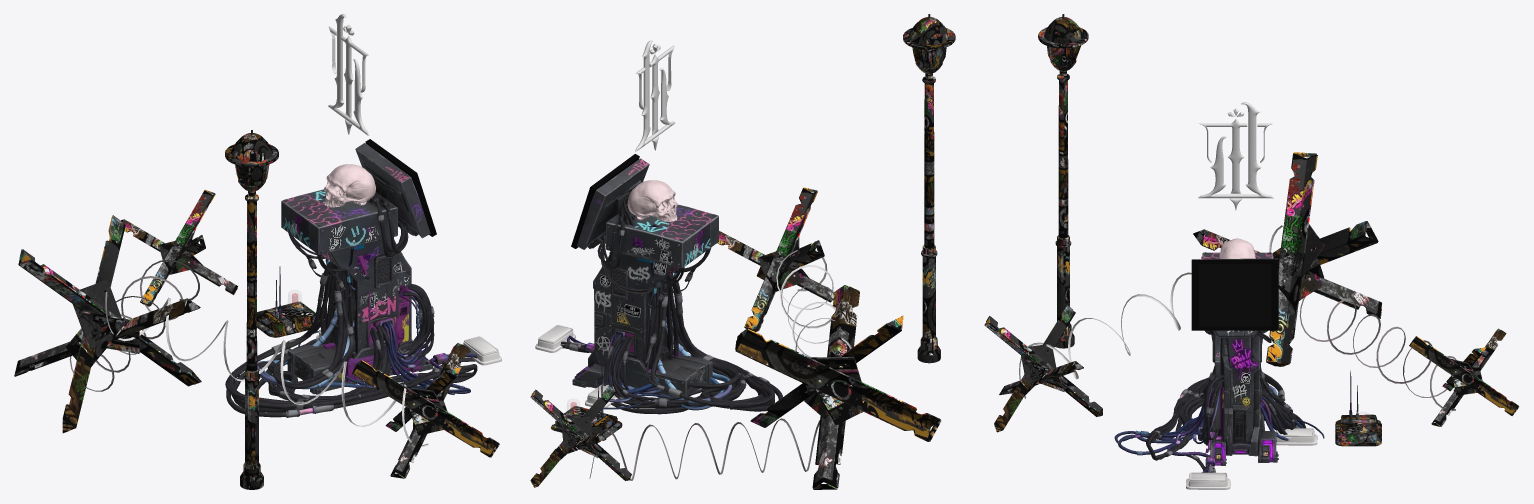
File: escena1-transformed.glb
3 views of the same model, side by side, from view 1: azimuth 30°, elevation 25°; view 2: azimuth 150°, elevation 25°; view 3: azimuth 270°, elevation 25° (orthographic). The views are drawn at different scales.
Visible parts, largest first — view 1: lamp, geometry_0, console, rsg_military_barbed_wire_01, Mesh1.0, 2, rsg_military_barbed_wire_01.001, screen; view 2: lamp, geometry_0, Mesh1.0, rsg_military_barbed_wire_01, console, 2, rsg_military_barbed_wire_01.001, screen; view 3: lamp, geometry_0, screen, Mesh1.0, console, rsg_military_barbed_wire_01, rsg_military_barbed_wire_01.001, 2.
Part boxes in pixels (left/top/right/bottom): lamp: left=14, top=130, right=499, bottom=489; geometry_0: left=225, top=143, right=477, bottom=417; console: left=257, top=243, right=477, bottom=395; rsg_military_barbed_wire_01: left=105, top=291, right=501, bottom=446; Mesh1.0: left=328, top=14, right=369, bottom=135; 2: left=324, top=164, right=375, bottom=207; rsg_military_barbed_wire_01.001: left=69, top=259, right=199, bottom=391; screen: left=365, top=139, right=436, bottom=236; lamp: left=530, top=14, right=955, bottom=489; geometry_0: left=560, top=158, right=782, bottom=414; Mesh1.0: left=635, top=40, right=674, bottom=151; rsg_military_barbed_wire_01: left=535, top=250, right=851, bottom=407; console: left=567, top=258, right=732, bottom=410; 2: left=627, top=180, right=677, bottom=222; rsg_military_barbed_wire_01.001: left=589, top=418, right=819, bottom=480; screen: left=571, top=154, right=639, bottom=248; lamp: left=984, top=14, right=1518, bottom=446; geometry_0: left=1146, top=252, right=1305, bottom=472; screen: left=1191, top=259, right=1278, bottom=330; Mesh1.0: left=1198, top=102, right=1273, bottom=210; console: left=1114, top=377, right=1324, bottom=472; rsg_military_barbed_wire_01: left=1019, top=225, right=1317, bottom=489; rsg_military_barbed_wire_01.001: left=1299, top=297, right=1456, bottom=410; 2: left=1218, top=238, right=1255, bottom=258.
Size of the model in its own units: 1.79 by 1.47 by 2.12.
Materials: 11 (10 with a texture image).
